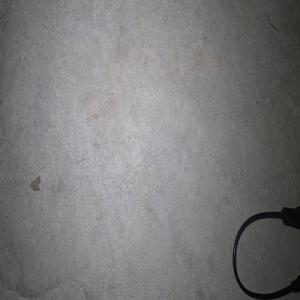Wire: (232, 204, 300, 300)
